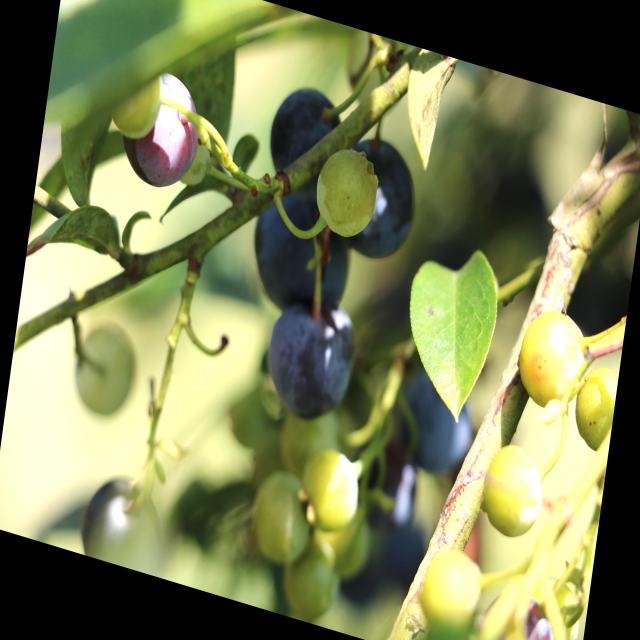blueberry: (246, 173, 360, 327), (252, 280, 364, 430), (328, 129, 425, 270), (260, 76, 349, 194), (394, 370, 480, 482)
blueberry-halfripe: (118, 68, 202, 198)
blueberry-unripe: (512, 299, 592, 419), (477, 431, 550, 548), (249, 464, 318, 568), (416, 538, 487, 639), (314, 137, 382, 240), (73, 319, 139, 421), (298, 444, 365, 539), (569, 360, 619, 456), (111, 57, 164, 144)
